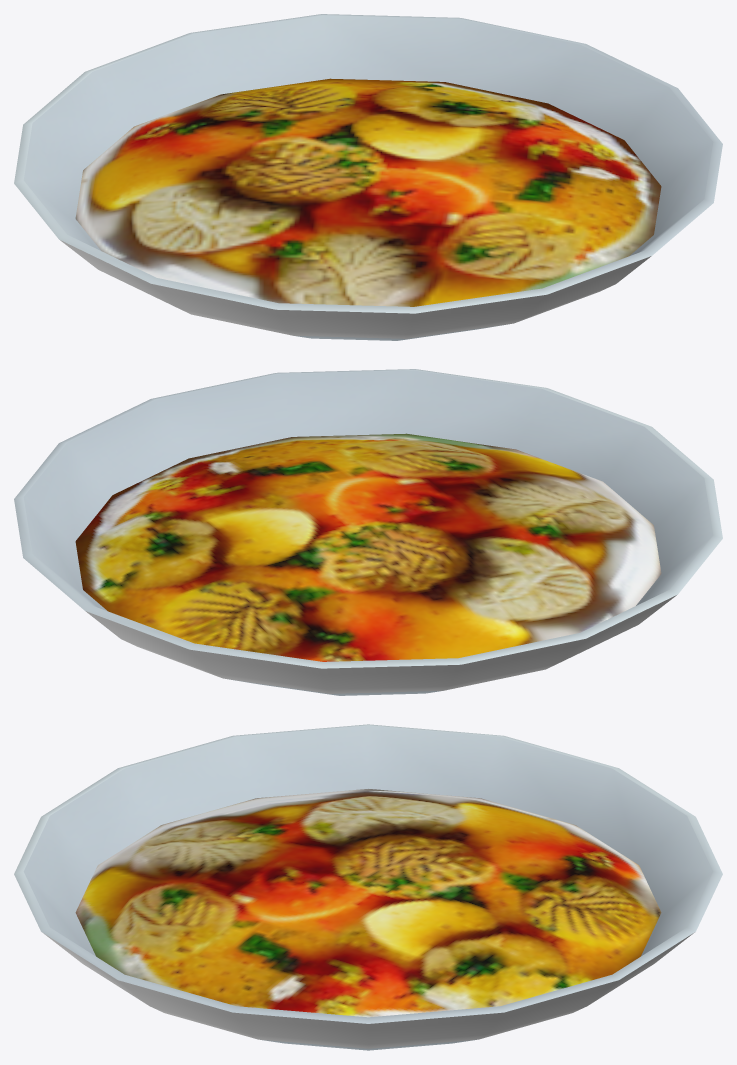
The model's file is prop_foodmenu27.fbx.
3 renders of one model, top to bottom at view 1: azimuth 30°, elevation 25°; view 2: azimuth 150°, elevation 25°; view 3: azimuth 270°, elevation 25°, orthographic.
Visible parts, largest first — view 1: prop_foodmenu27; view 2: prop_foodmenu27; view 3: prop_foodmenu27.
Part boxes in pixels (box(x1,y1,x2,y2)): prop_foodmenu27: box(14, 14, 722, 340); prop_foodmenu27: box(14, 369, 722, 695); prop_foodmenu27: box(14, 724, 722, 1050).
Size of the model in its own units: 0.3279 by 0.0539 by 0.3279.
